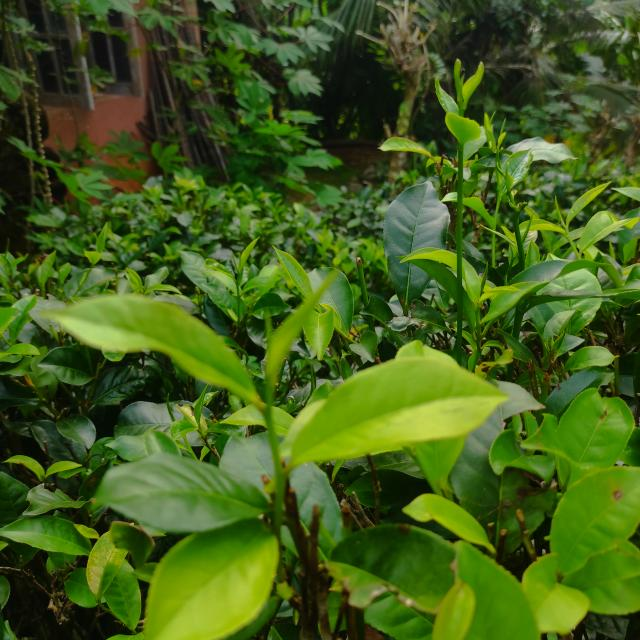unopened_leaf: (254, 256, 353, 404), (550, 193, 570, 232), (450, 67, 473, 96), (496, 115, 511, 138), (487, 107, 501, 120)
